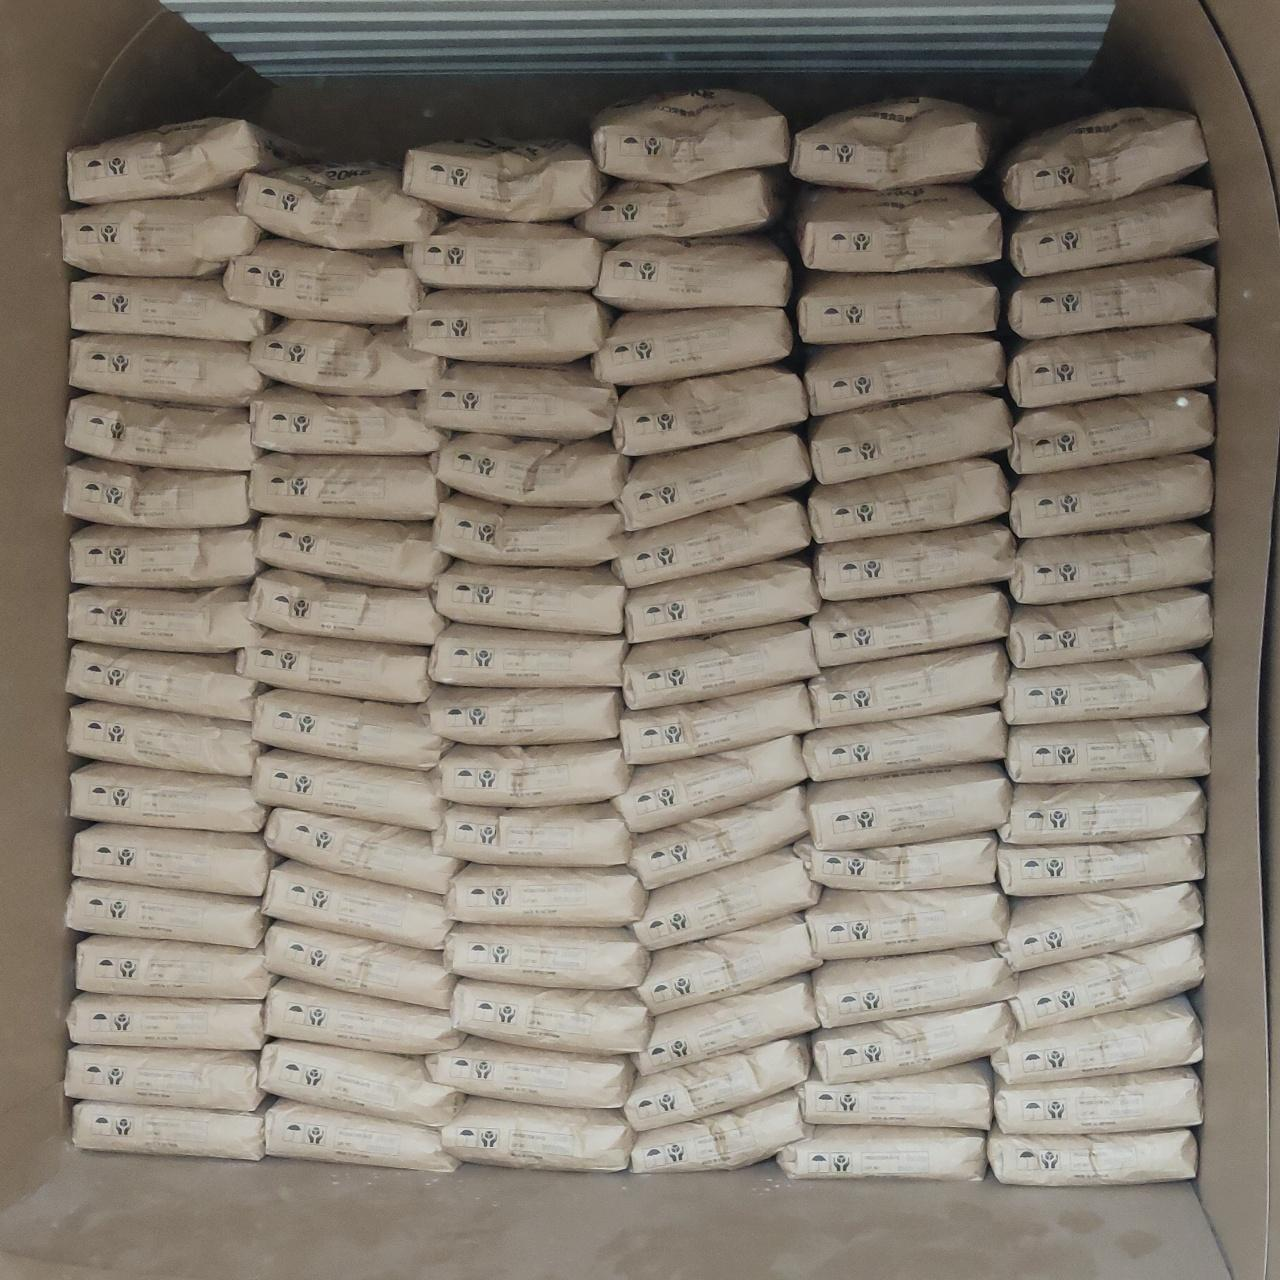sack: (998, 108, 1206, 206), (790, 98, 1006, 190), (629, 850, 818, 948), (1010, 186, 1214, 275), (618, 433, 810, 526), (592, 90, 788, 182), (636, 915, 818, 1014), (1012, 934, 1201, 1028), (629, 788, 806, 886), (260, 1040, 459, 1126), (792, 186, 1000, 270), (70, 118, 278, 202), (617, 496, 808, 586), (617, 738, 804, 830), (994, 998, 1200, 1080), (634, 976, 813, 1070), (64, 190, 263, 274), (810, 394, 1008, 478), (1000, 884, 1201, 966), (614, 368, 806, 454), (808, 764, 1008, 846), (1008, 326, 1214, 406), (1008, 258, 1214, 338), (624, 558, 818, 642), (266, 808, 458, 892), (264, 862, 450, 948), (404, 139, 604, 220), (1010, 390, 1212, 470), (238, 166, 440, 246), (810, 644, 1006, 726), (626, 1039, 808, 1126), (810, 459, 1006, 540), (624, 622, 816, 704), (1012, 524, 1212, 602), (1010, 456, 1210, 535), (226, 240, 422, 320), (266, 922, 452, 1006), (804, 336, 1005, 414), (813, 522, 1014, 598), (813, 946, 1014, 1022), (254, 750, 444, 830), (620, 685, 812, 762), (420, 362, 614, 438), (813, 1005, 1014, 1078), (1008, 590, 1210, 662), (796, 270, 998, 342), (592, 308, 790, 382), (578, 168, 784, 238), (68, 394, 258, 470), (68, 644, 260, 719), (595, 236, 790, 309), (254, 690, 445, 765), (812, 588, 1006, 662), (250, 570, 442, 644), (408, 292, 610, 362), (74, 824, 275, 894), (70, 334, 266, 406), (452, 980, 648, 1051), (266, 980, 462, 1051), (632, 1092, 806, 1172), (428, 1039, 632, 1107), (1005, 654, 1206, 722), (808, 888, 1006, 958), (806, 710, 1005, 779), (406, 220, 606, 288), (252, 320, 442, 392), (70, 702, 260, 774), (238, 632, 430, 702), (994, 1068, 1198, 1133), (256, 516, 445, 586), (266, 1099, 456, 1170), (433, 434, 628, 502), (434, 493, 622, 564), (72, 275, 274, 340), (1008, 716, 1206, 782), (68, 880, 266, 946), (442, 1098, 629, 1167), (445, 924, 646, 988), (433, 561, 622, 629), (250, 454, 445, 518), (72, 764, 264, 830), (252, 388, 445, 452), (66, 458, 248, 526), (799, 1062, 990, 1126), (1002, 779, 1204, 840), (434, 742, 629, 804), (70, 586, 258, 651), (66, 1048, 260, 1110), (433, 624, 624, 686), (1000, 836, 1201, 894), (79, 937, 272, 998), (434, 802, 629, 862), (448, 864, 644, 924), (72, 524, 258, 586), (776, 1126, 982, 1180), (424, 686, 618, 742), (988, 1130, 1196, 1182), (74, 1102, 263, 1158), (796, 835, 996, 886), (68, 994, 263, 1046)
